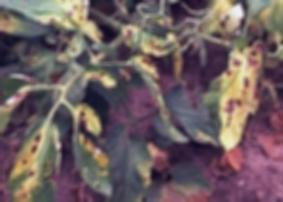Tomato Early blight leaf: (0, 0, 112, 51), (62, 105, 116, 193), (14, 115, 67, 202), (221, 42, 260, 147), (132, 58, 186, 130)
